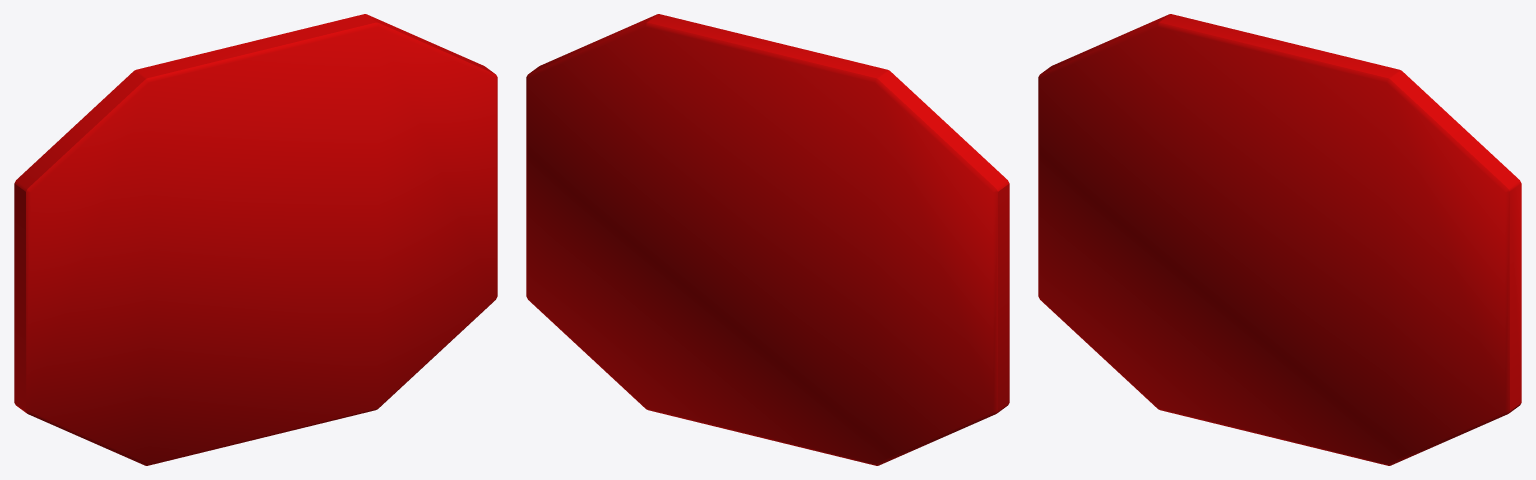
3 renders of one model, left to right at view 1: azimuth 30°, elevation 25°; view 2: azimuth 150°, elevation 25°; view 3: azimuth 330°, elevation 25°, orthographic.
Visible parts, largest first — view 1: Mesh; view 2: Mesh; view 3: Mesh.
Boxes of the visible parts, <box> form: Mesh: <box>14,14,497,465</box>; Mesh: <box>526,14,1009,465</box>; Mesh: <box>1038,14,1521,465</box>.
Bounding box in the file's own units: 1.81 × 1.42 × 0.101.
